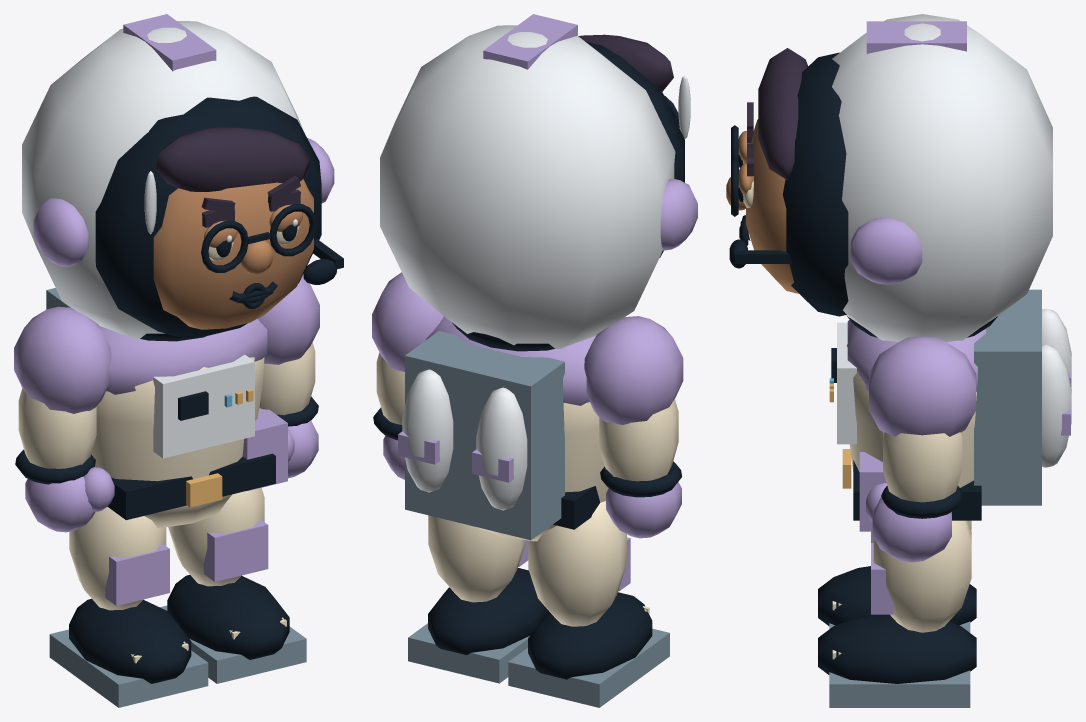
The model's file is crew-mara.glb.
3 renders of one model, left to right at view 1: azimuth 30°, elevation 25°; view 2: azimuth 150°, elevation 25°; view 3: azimuth 270°, elevation 25°, orthographic. The views are drawn at different scales.
Parts seen in each view (by area): view 1: helmet-shell, visor-gasket, boot (×2), face, shoulder (×2), pressure-suit, leg-pressure (×2), hairline, chest-panel, sleeve (×2), sole (×2), shoulder-yoke (+14 smaller); view 2: helmet-shell, life-pack, leg-pressure (×2), boot (×2), shoulder (×2), air-cell (×2), sole (×2), sleeve (×2), pressure-suit, glove (×2), shoulder-yoke, helmet-crown (+8 smaller); view 3: helmet-shell, life-pack, visor-gasket, boot (×2), shoulder, leg-pressure, sleeve, hairline, sole, air-cell (×2), helmet-hinge, face (+10 smaller).
Boxes of the visible parts, x1=… form: helmet-shell: x1=22, y1=21, x2=304, y2=341; visor-gasket: x1=95, y1=96, x2=321, y2=336; boot (×2): x1=69, y1=575, x2=289, y2=683; face: x1=153, y1=179, x2=313, y2=329; shoulder (×2): x1=14, y1=274, x2=319, y2=413; pressure-suit: x1=91, y1=357, x2=264, y2=527; leg-pressure (×2): x1=69, y1=487, x2=264, y2=610; hairline: x1=155, y1=127, x2=310, y2=191; chest-panel: x1=153, y1=354, x2=254, y2=458; sleeve (×2): x1=18, y1=342, x2=315, y2=468; sole (×2): x1=49, y1=605, x2=306, y2=707; shoulder-yoke: x1=99, y1=319, x2=267, y2=394; helmet-shell: x1=380, y1=25, x2=675, y2=351; life-pack: x1=405, y1=331, x2=564, y2=540; leg-pressure (×2): x1=428, y1=501, x2=626, y2=626; boot (×2): x1=428, y1=568, x2=652, y2=679; shoulder (×2): x1=372, y1=272, x2=683, y2=425; air-cell (×2): x1=402, y1=369, x2=527, y2=510; sole (×2): x1=408, y1=623, x2=669, y2=707; sleeve (×2): x1=376, y1=352, x2=678, y2=481; pressure-suit: x1=476, y1=402, x2=608, y2=541; glove (×2): x1=383, y1=436, x2=681, y2=538; shoulder-yoke: x1=426, y1=316, x2=595, y2=405; helmet-crown: x1=483, y1=14, x2=577, y2=69; helmet-shell: x1=832, y1=14, x2=1052, y2=341; life-pack: x1=974, y1=289, x2=1041, y2=505; visor-gasket: x1=782, y1=52, x2=848, y2=316; boot (×2): x1=818, y1=566, x2=976, y2=683; shoulder: x1=869, y1=336, x2=976, y2=436; leg-pressure: x1=873, y1=520, x2=971, y2=632; sleeve: x1=883, y1=432, x2=962, y2=502; hairline: x1=758, y1=48, x2=808, y2=180; sole: x1=829, y1=670, x2=970, y2=707; air-cell (×2): x1=1042, y1=308, x2=1071, y2=467; helmet-hinge: x1=850, y1=218, x2=922, y2=284; face: x1=746, y1=119, x2=799, y2=293.
Size of the model in its own units: 1.37 by 2.78 by 1.37.
